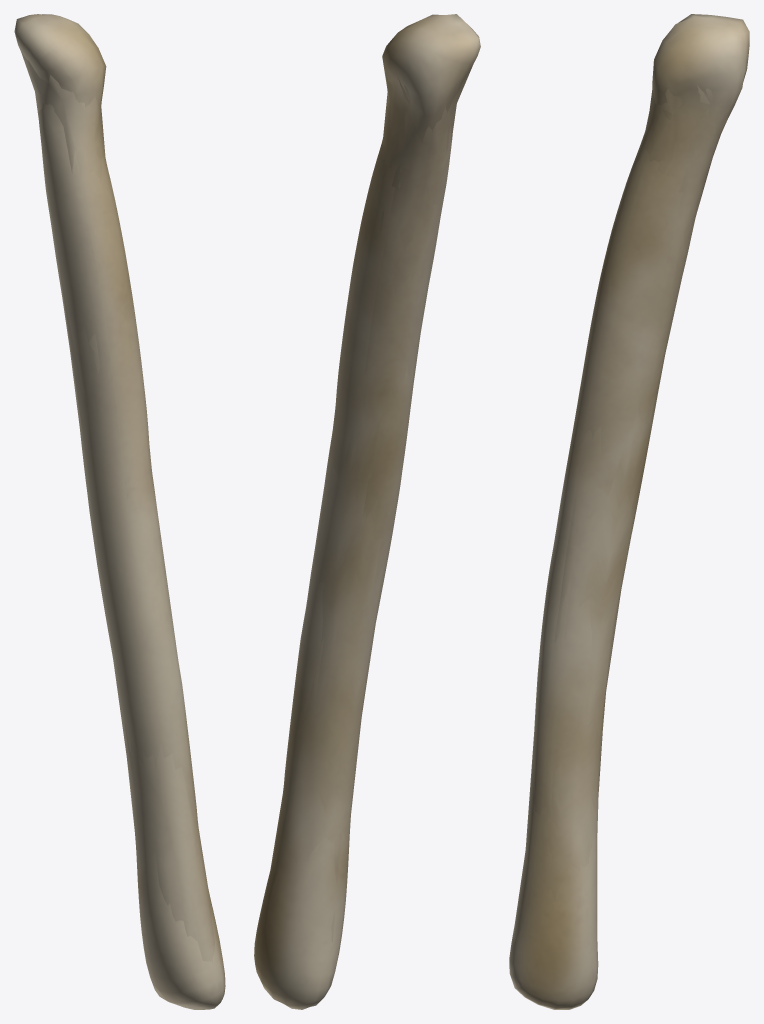
File: L metatarsi tertium.fbx
3 views of the same model, side by side, from view 1: azimuth 30°, elevation 25°; view 2: azimuth 210°, elevation 25°; view 3: azimuth 270°, elevation 25° (orthographic). The views are drawn at different scales.
Parts seen in each view (by area): view 1: L metatarsi tertium high, L metatarsi tertium low; view 2: L metatarsi tertium high, L metatarsi tertium low, L metatarsi tertium; view 3: L metatarsi tertium high, L metatarsi tertium low, L metatarsi tertium.
Boxes of the visible parts, left/top/right/bottom form: L metatarsi tertium high: left=14, top=14, right=225, bottom=1009; L metatarsi tertium low: left=21, top=45, right=215, bottom=963; L metatarsi tertium high: left=254, top=14, right=480, bottom=1009; L metatarsi tertium low: left=270, top=48, right=473, bottom=942; L metatarsi tertium: left=317, top=82, right=449, bottom=844; L metatarsi tertium high: left=509, top=14, right=749, bottom=1009; L metatarsi tertium low: left=513, top=32, right=741, bottom=943; L metatarsi tertium: left=556, top=88, right=722, bottom=844.
Bounding box in the file's own units: 2.47 × 19.52 × 4.46.
